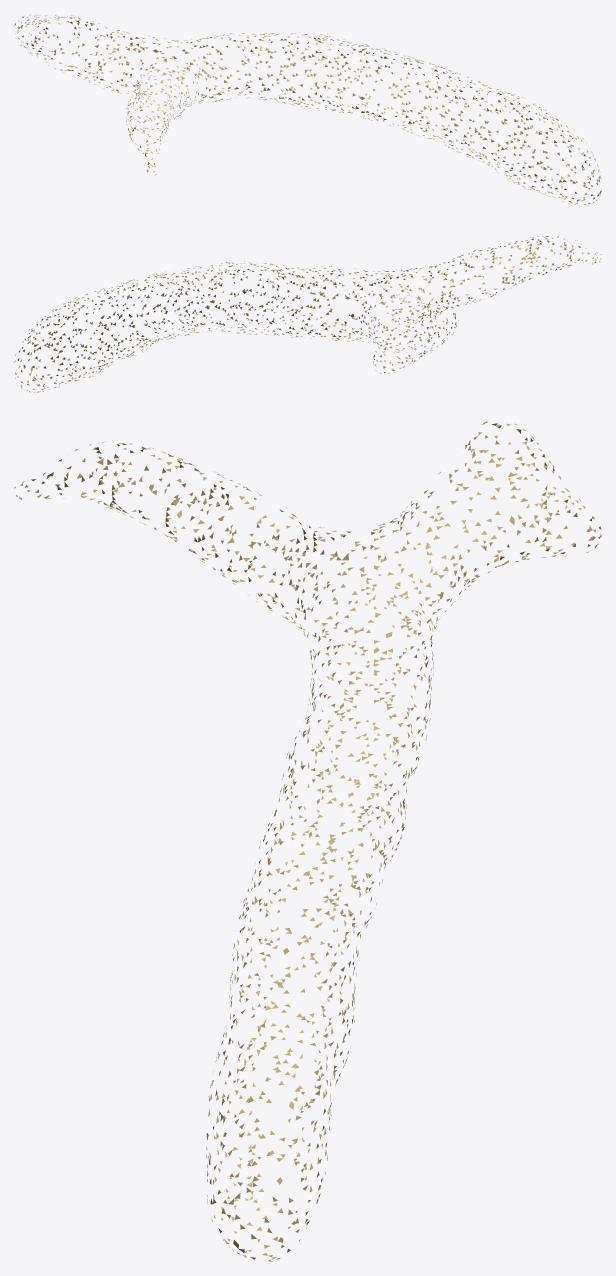
The model's file is morph_008.glb.
3 renders of one model, top to bottom at view 1: azimuth 30°, elevation 25°; view 2: azimuth 150°, elevation 25°; view 3: azimuth 270°, elevation 25°, orthographic. The views are drawn at different scales.
Bounding box in the file's own units: 119 × 55.67 × 68.37.
